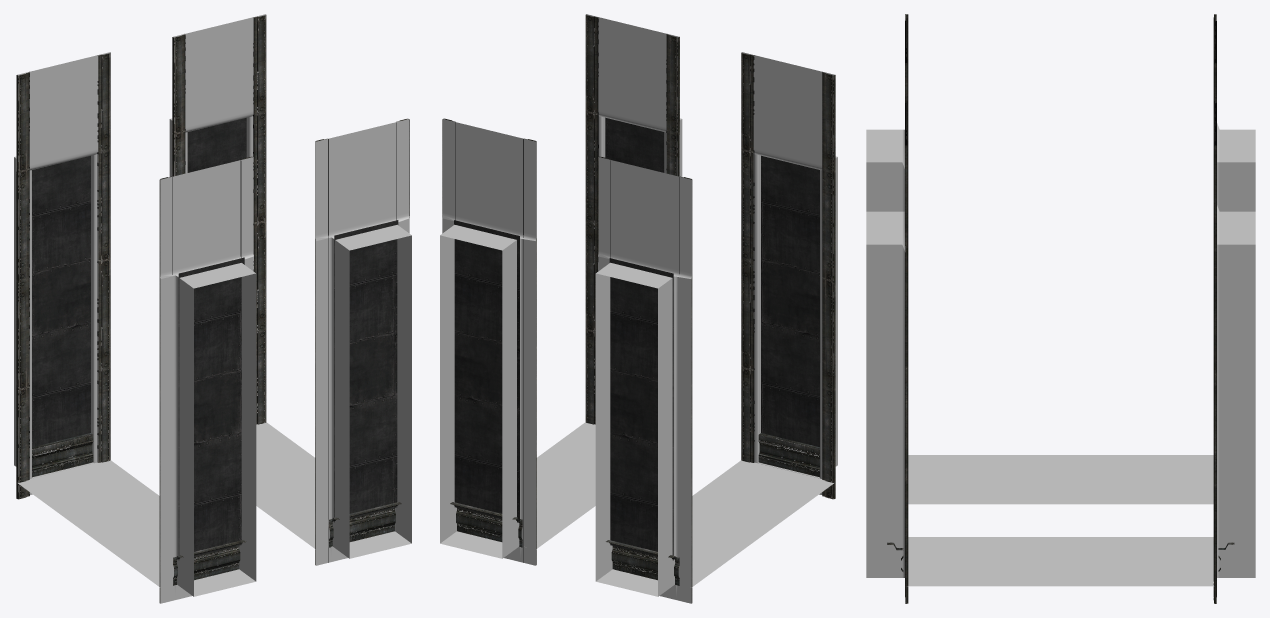
Rendered from tesla_modules1_tjunction_01.dae.
3 views of the same model, side by side, from view 1: azimuth 30°, elevation 25°; view 2: azimuth 150°, elevation 25°; view 3: azimuth 270°, elevation 25° (orthographic). The views are drawn at different scales.
Parts seen in each view (by area): view 1: tjunction_stone, tjunction_sheetmetal, tjunction_metal, tjunction_floor; view 2: tjunction_stone, tjunction_sheetmetal, tjunction_metal, tjunction_floor; view 3: tjunction_stone, tjunction_floor, tjunction_metal.
Boxes of the visible parts, bbox=[...] form: tjunction_stone: bbox=[14, 14, 411, 603]; tjunction_sheetmetal: bbox=[32, 118, 398, 560]; tjunction_metal: bbox=[16, 15, 409, 603]; tjunction_floor: bbox=[18, 422, 391, 586]; tjunction_stone: bbox=[440, 14, 837, 603]; tjunction_sheetmetal: bbox=[454, 117, 819, 560]; tjunction_metal: bbox=[442, 14, 835, 603]; tjunction_floor: bbox=[458, 422, 833, 586]; tjunction_stone: bbox=[866, 123, 1255, 577]; tjunction_floor: bbox=[907, 455, 1213, 586]; tjunction_metal: bbox=[887, 14, 1234, 603].
Bounding box in the file's own units: 4002 × 6502 × 5000.
